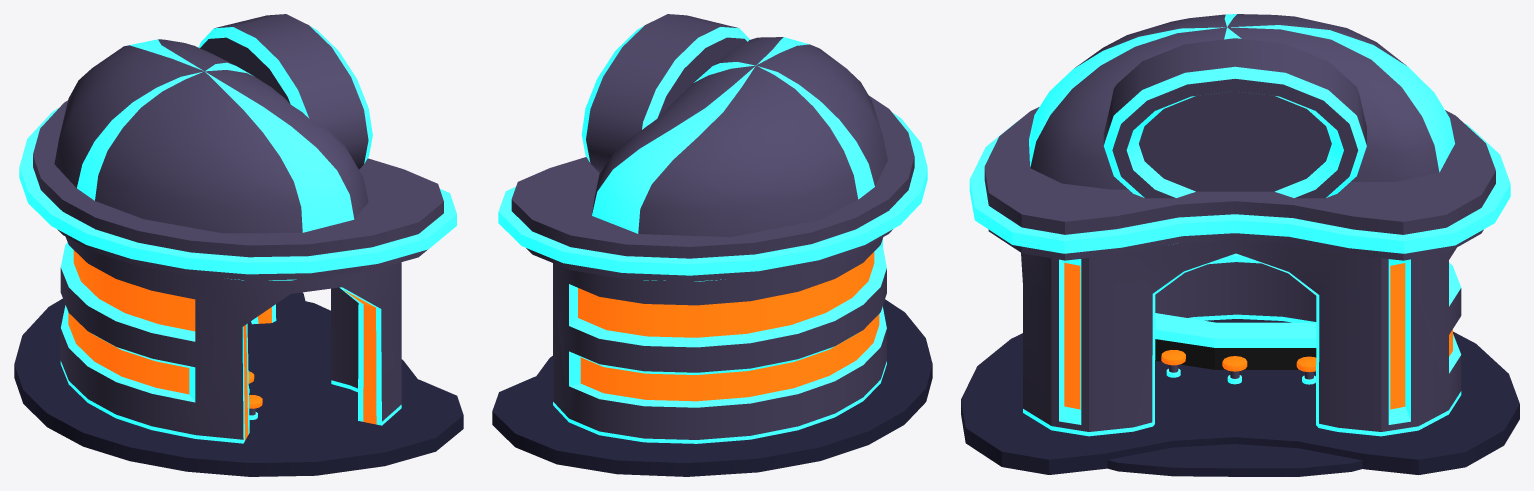
The model's file is CAFE_House.fbx.
3 renders of one model, left to right at view 1: azimuth 30°, elevation 25°; view 2: azimuth 150°, elevation 25°; view 3: azimuth 270°, elevation 25°, orthographic. The views are drawn at different scales.
Parts seen in each view (by area): view 1: House; view 2: House; view 3: House.
Part boxes in pixels (x1=…): House: x1=14, y1=14, x2=463, y2=476; House: x1=492, y1=14, x2=932, y2=476; House: x1=961, y1=14, x2=1519, y2=476.
Bounding box in the file's own units: 1524 × 1498 × 2029.
